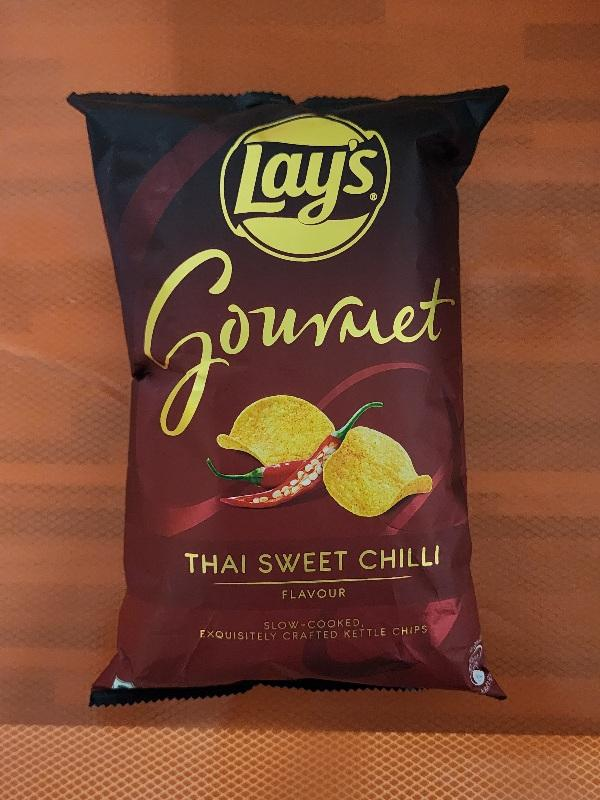Lays: (71, 90, 508, 701)
